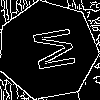M: (23, 25, 76, 74)
